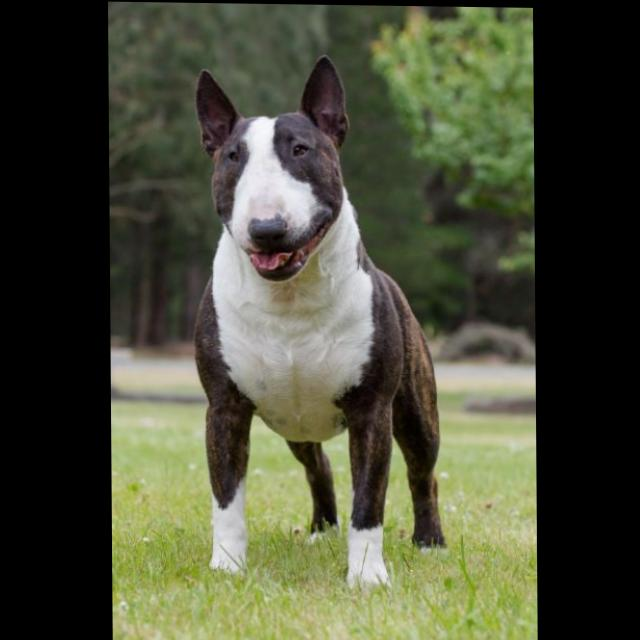bullterrier: (190, 51, 446, 592)
